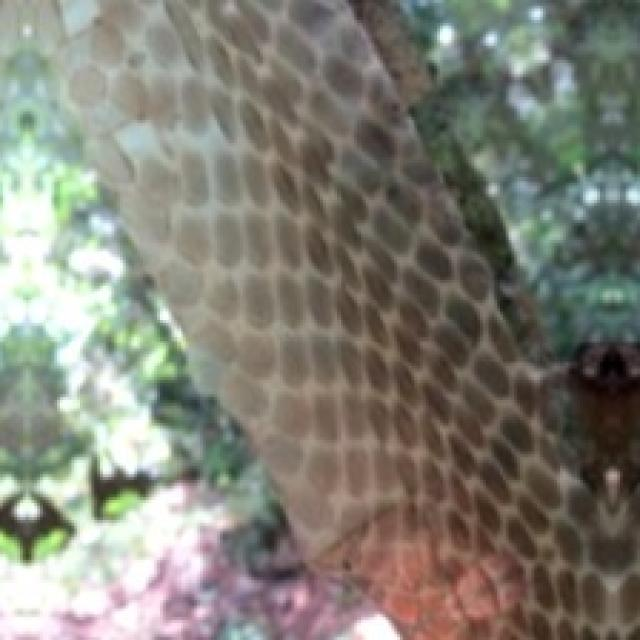king cobra: (63, 0, 637, 637)
